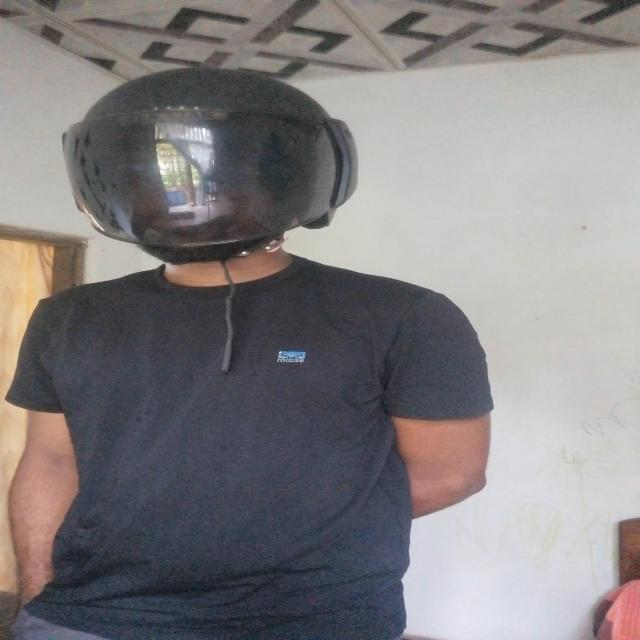Helmet_Wearer: (55, 62, 379, 286)
Person: (16, 60, 507, 640)
